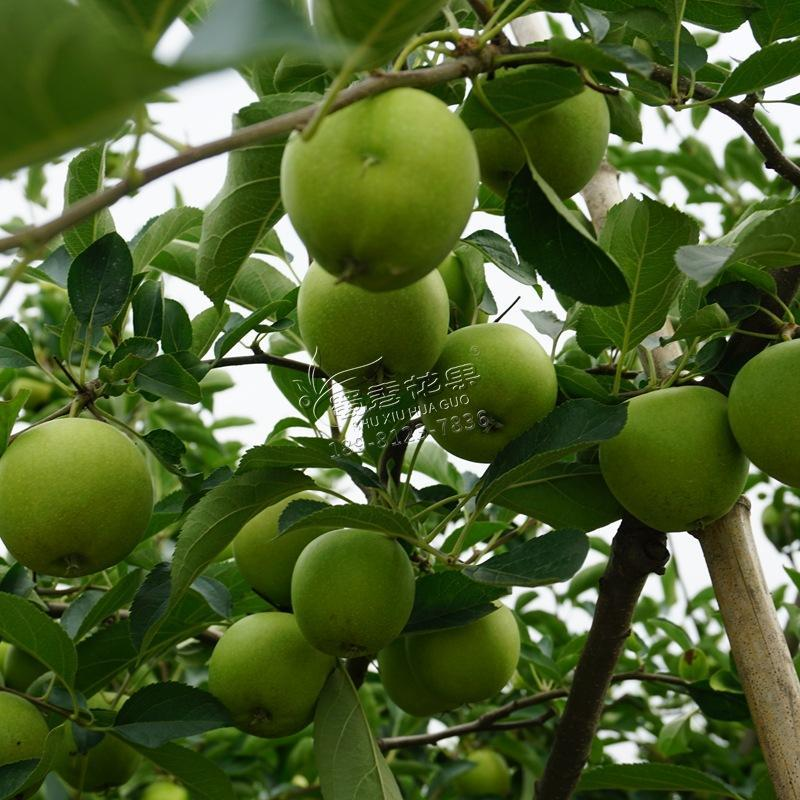apple: (277, 81, 478, 282), (1, 416, 165, 574), (600, 385, 743, 529), (415, 321, 556, 459), (298, 263, 450, 387), (465, 72, 607, 197), (205, 608, 337, 738), (373, 599, 518, 715), (291, 526, 410, 662), (727, 337, 800, 490), (234, 491, 330, 604)
